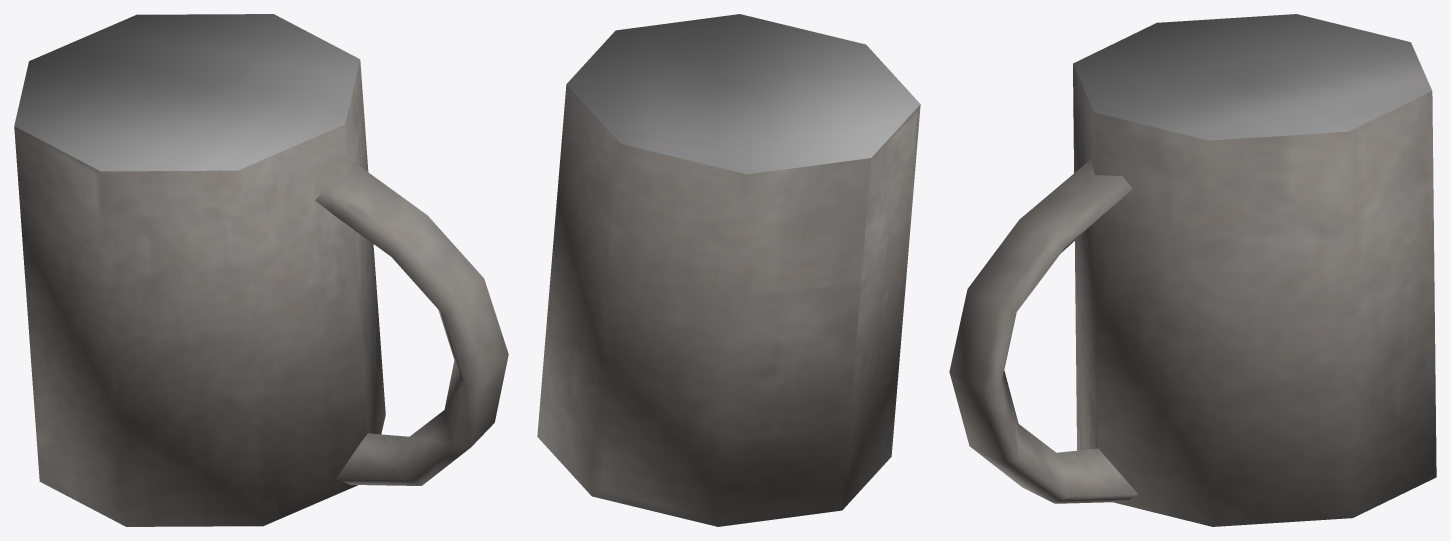
Rendered from H_MetalMug_Liquid.fbx.
The picture shows the model from 3 angles, left to right: view 1: azimuth 30°, elevation 25°; view 2: azimuth 150°, elevation 25°; view 3: azimuth 270°, elevation 25°; orthographic projection. The views are drawn at different scales.
Visible parts, largest first — view 1: Mug; view 2: Mug; view 3: Mug.
Boxes of the visible parts, left/top/right/bottom form: Mug: left=14, top=14, right=508, bottom=526; Mug: left=537, top=14, right=920, bottom=526; Mug: left=949, top=14, right=1436, bottom=526.
Size of the model in its own units: 19.14 by 20.89 by 22.91.
